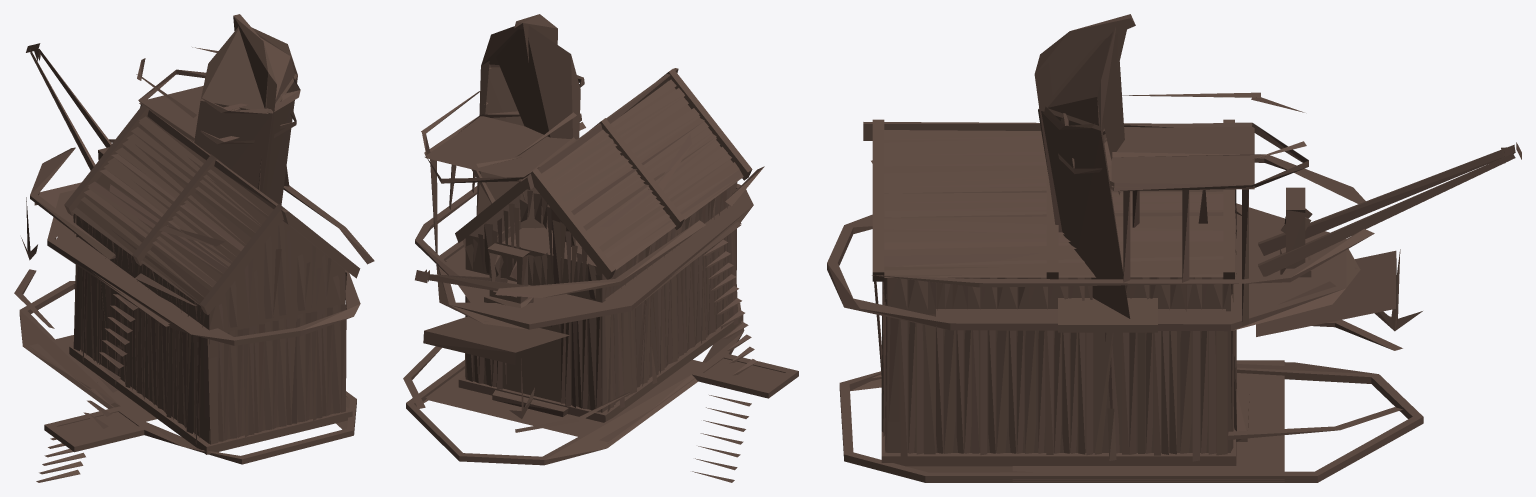
File: fishing-hut.zfix-v14.lod1.glb
3 views of the same model, side by side, from view 1: azimuth 30°, elevation 25°; view 2: azimuth 150°, elevation 25°; view 3: azimuth 270°, elevation 25° (orthographic). The views are drawn at different scales.
Parts seen in each view (by area): view 1: Box040_Material #2_0; view 2: Box040_Material #2_0; view 3: Box040_Material #2_0.
Boxes of the visible parts, x1,y1,x2,y2 form: Box040_Material #2_0: [14, 14, 374, 482]; Box040_Material #2_0: [403, 14, 798, 482]; Box040_Material #2_0: [827, 14, 1521, 482].
Bounding box in the file's own units: 4.08 × 5.93 × 6.99.
